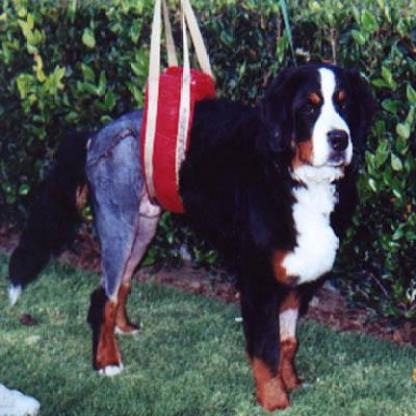Bernese_mountain_dog: (8, 62, 362, 408)
